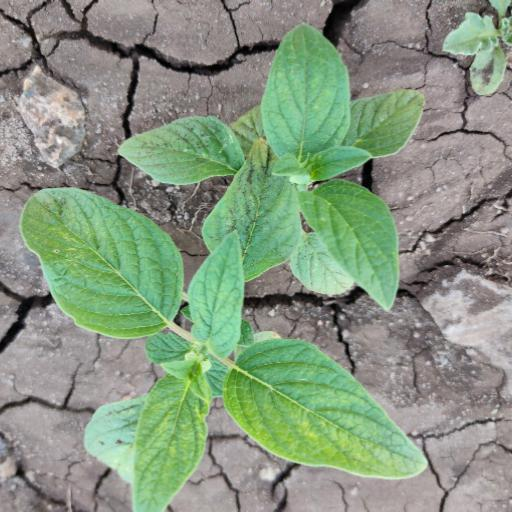crop: (13, 15, 435, 512)
